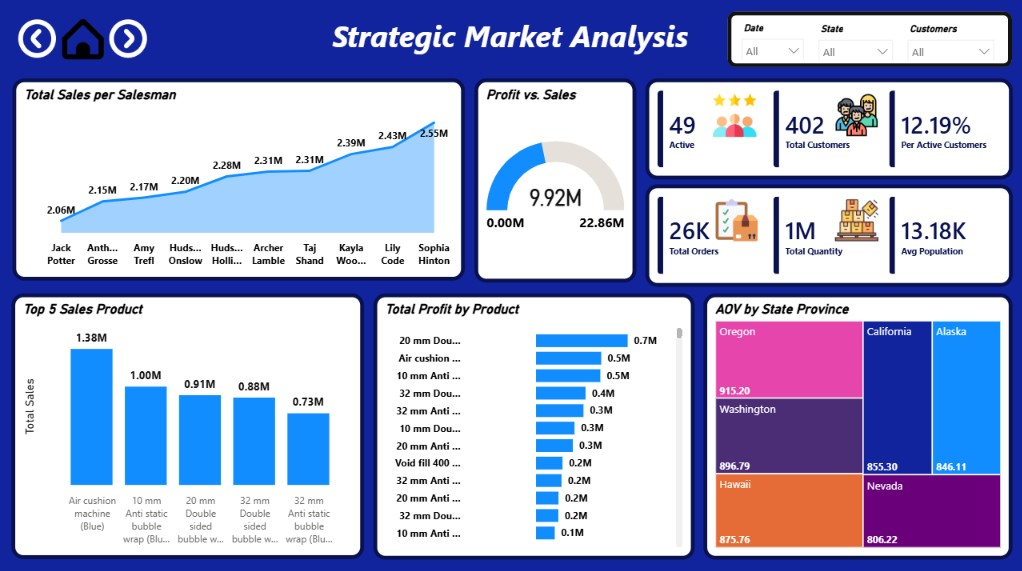

Layout of this report page (visuals, bound fields, positions):
{"tool":"powerbi","page":{"name":"Strategic Market Analysis","canvas":[1280,720],"ordinal":1},"visuals":[{"type":"textbox","box":[361.4,15.7,557.1,70],"z":0},{"type":"cardVisual","fields":{"Data":["Measure.Total Orders","Measure.Total Quantity","Measure.Avg Population"]},"box":[808.6,231.9,458.9,127.6],"z":1000},{"type":"cardVisual","fields":{"Data":["Measure.Active Customers","Measure.Total Customers","Measure.Per Active Customers"]},"box":[808.6,99.4,458.9,126.4],"z":2000},{"type":"lineChart","title":"Total Sales per Salesman","fields":{"Category":["DimEmployee.Employee"],"Y":["Measure.Total sales included tax"]},"box":[17.2,99.4,565.6,252.8],"z":3000},{"type":"gauge","title":"Profit vs. Sales","fields":{"MaxValue":["Measure.Total sales included tax"],"Y":["Measure.Total Profit"]},"box":[595.1,99.4,202.5,255.2],"z":4000},{"type":"treemap","fields":{"Details":["DimCity.State Province"],"Values":["Measure.AOV"]},"box":[881,369.3,386.5,332.5],"z":5000},{"type":"barChart","title":"Total Profit by Product","fields":{"Category":["DimStockItem.Stock Item"],"Y":["Measure.Total Profit"]},"box":[468.7,369.3,401.2,332.5],"z":6000},{"type":"shape","box":[911.7,16,355.8,69.9],"z":7000},{"type":"slicer","fields":{"Values":["DimDate.Date.Variation.Date Hierarchy.Year"]},"box":[919.1,24.8,98.2,50.8],"z":8000},{"type":"slicer","fields":{"Values":["DimCity.State Province"]},"box":[1015.1,26,112.9,50.8],"z":9000},{"type":"slicer","fields":{"Values":["DimCustomer.Customer"]},"box":[1125.8,26,128.7,50.8],"z":10000},{"type":"image","box":[72.3,24.9,66.3,51.5],"z":11000},{"type":"image","box":[134.3,26.7,56.7,47.8],"z":12000},{"type":"image","box":[19.9,26.7,56.7,47.8],"z":13000},{"type":"clusteredColumnChart","title":"Top 5 Sales Product","fields":{"Category":["DimStockItem.Stock Item"],"Y":["Measure.Total sales included tax"]},"box":[16.7,368.9,441.1,332.2],"z":14000}]}

Visuals, with their boxes in screenshot pixels (x1, y1, x2, y2), scaled from the page's 1280x720 canvas onto the 1022x571 screenshot:
textbox: [289, 12, 733, 68]
cardVisual - Measure.Total Orders x Measure.Total Quantity: [646, 184, 1012, 285]
cardVisual - Measure.Active Customers x Measure.Total Customers: [646, 79, 1012, 179]
"Total Sales per Salesman" lineChart: [14, 79, 465, 279]
"Profit vs. Sales" gauge: [475, 79, 637, 281]
treemap - DimCity.State Province x Measure.AOV: [703, 293, 1012, 557]
"Total Profit by Product" barChart: [374, 293, 695, 557]
shape: [728, 13, 1012, 68]
slicer - DimDate.Date.Variation.Date Hierarchy.Year: [734, 20, 812, 60]
slicer - DimCity.State Province: [810, 21, 901, 61]
slicer - DimCustomer.Customer: [899, 21, 1002, 61]
image: [58, 20, 111, 61]
image: [107, 21, 153, 59]
image: [16, 21, 61, 59]
"Top 5 Sales Product" clusteredColumnChart: [13, 293, 366, 556]
